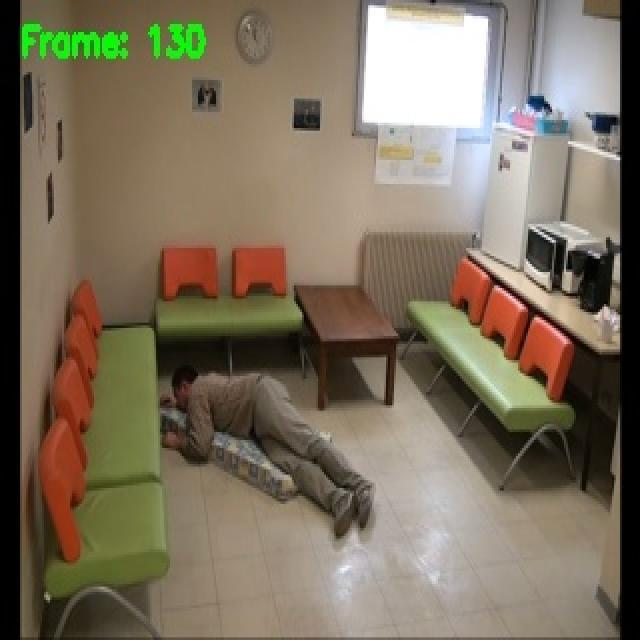fall: (160, 360, 376, 538)
